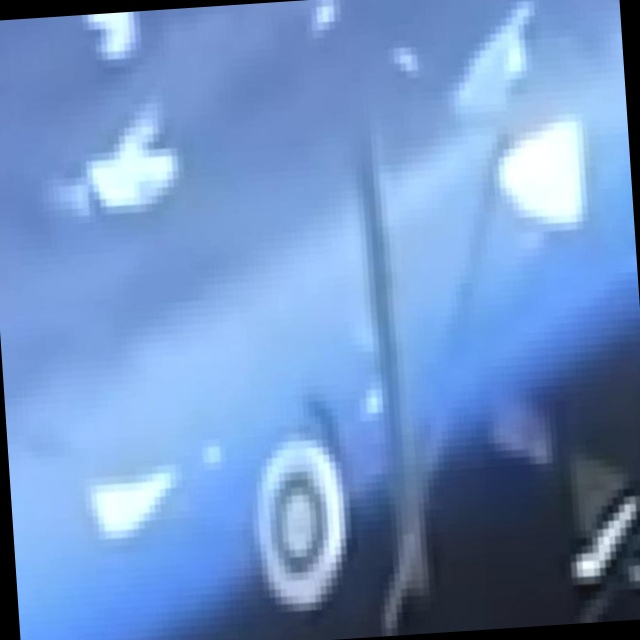medium_debris: (338, 125, 541, 626), (361, 110, 450, 600), (247, 412, 363, 622)
small_debris: (488, 101, 607, 235), (60, 103, 188, 212), (80, 464, 186, 545), (566, 480, 640, 586), (483, 396, 565, 475), (67, 10, 157, 63), (300, 0, 359, 47), (383, 35, 428, 82), (199, 431, 231, 476), (361, 373, 389, 421)
